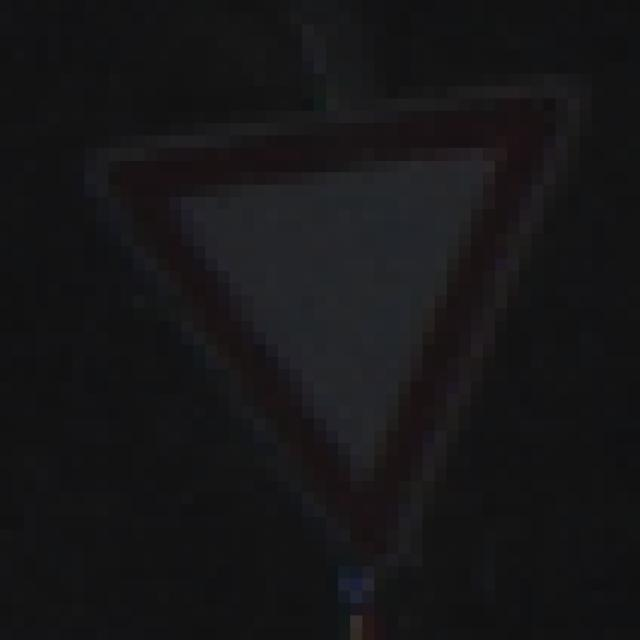Give Way: (62, 63, 569, 567)
